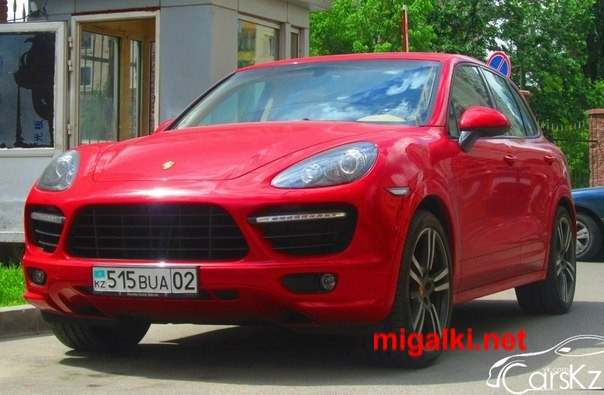license_plate: (93, 265, 201, 297)
